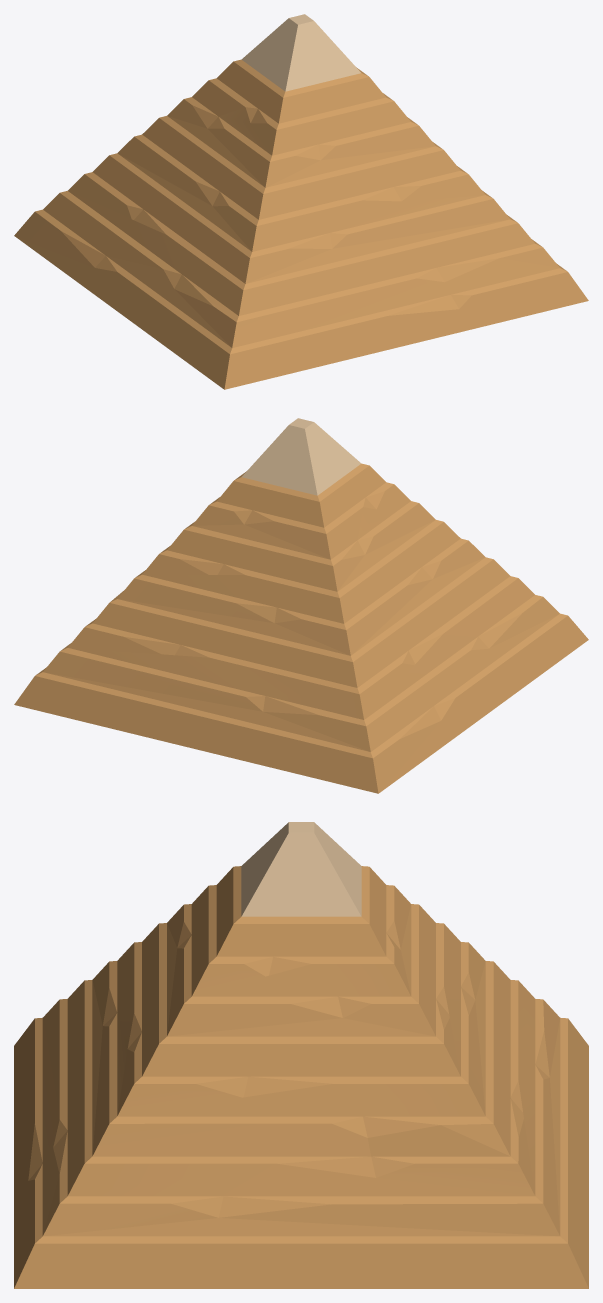
File: egypt_pyramid.fbx
The picture shows the model from 3 angles, top to bottom: view 1: azimuth 30°, elevation 25°; view 2: azimuth 150°, elevation 25°; view 3: azimuth 270°, elevation 25°; orthographic projection. The views are drawn at different scales.
Parts seen in each view (by area): view 1: egypt_pyramid; view 2: egypt_pyramid; view 3: egypt_pyramid.
Boxes of the visible parts, x1,y1,x2,y2 form: egypt_pyramid: (14, 14, 588, 389); egypt_pyramid: (14, 418, 588, 793); egypt_pyramid: (14, 822, 588, 1288).
Size of the model in its own units: 200 by 130 by 200.
